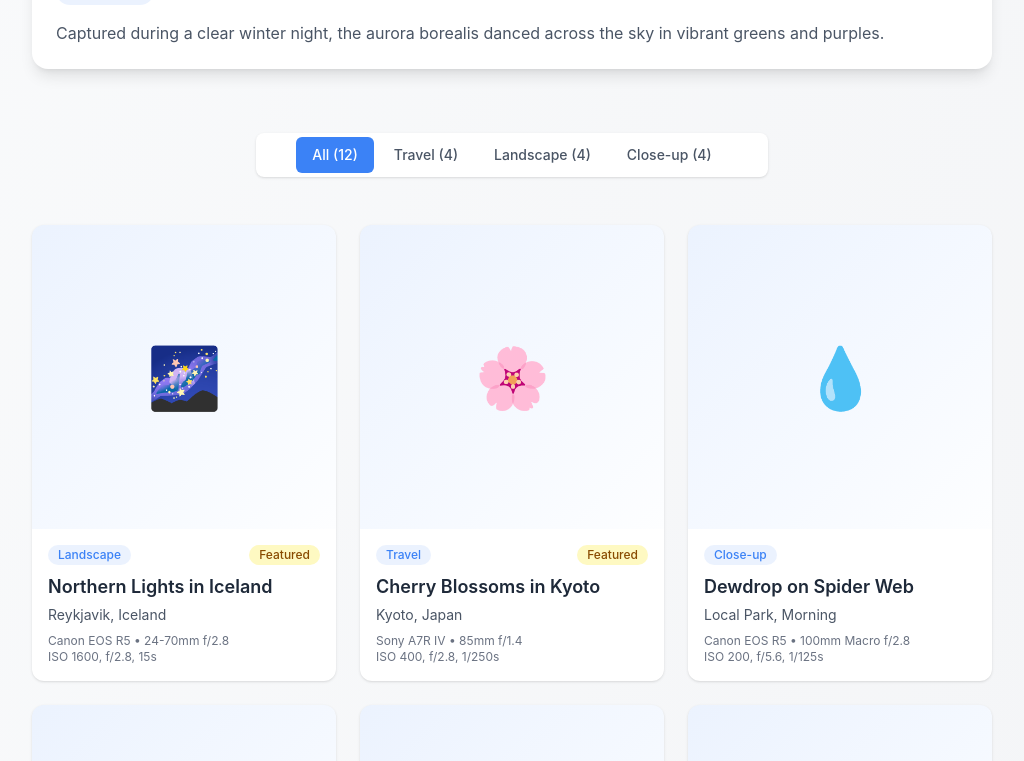
it: Photography Page › Modal UX Improvements › navigates to previous photo with left arrow key
The width and height of the screenshot is (1024, 761).
(page scrolled)
Click the text "🌸": (512, 377) [474,347,550,407]
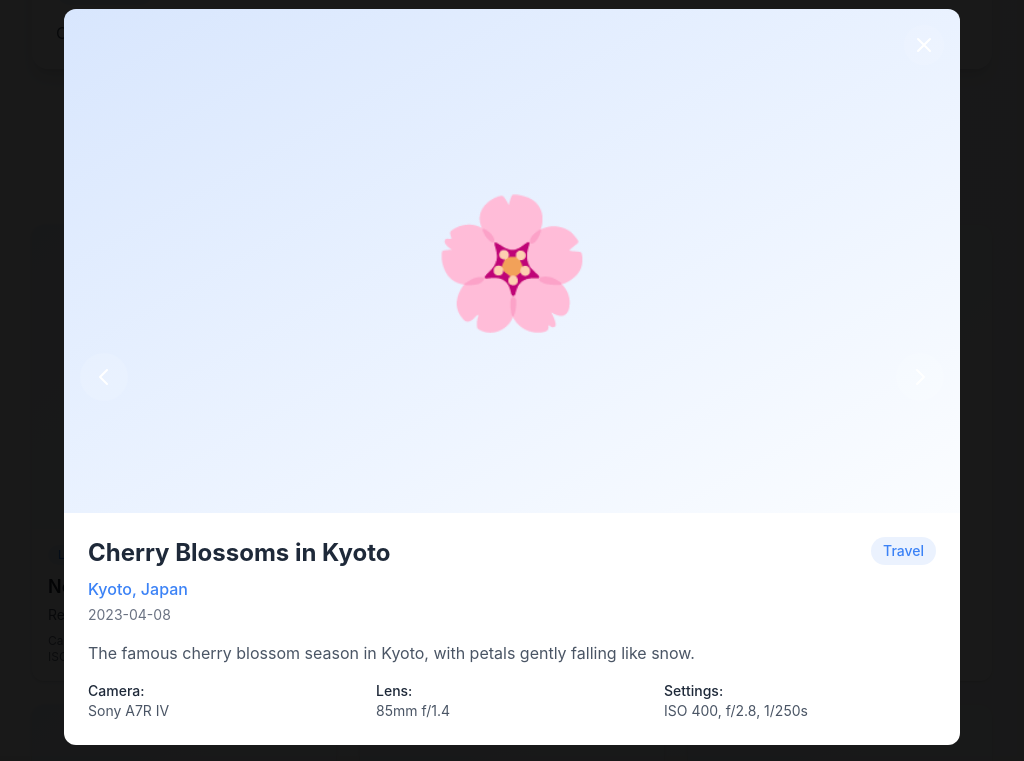
# Press left arrow key
Press Arrowleft
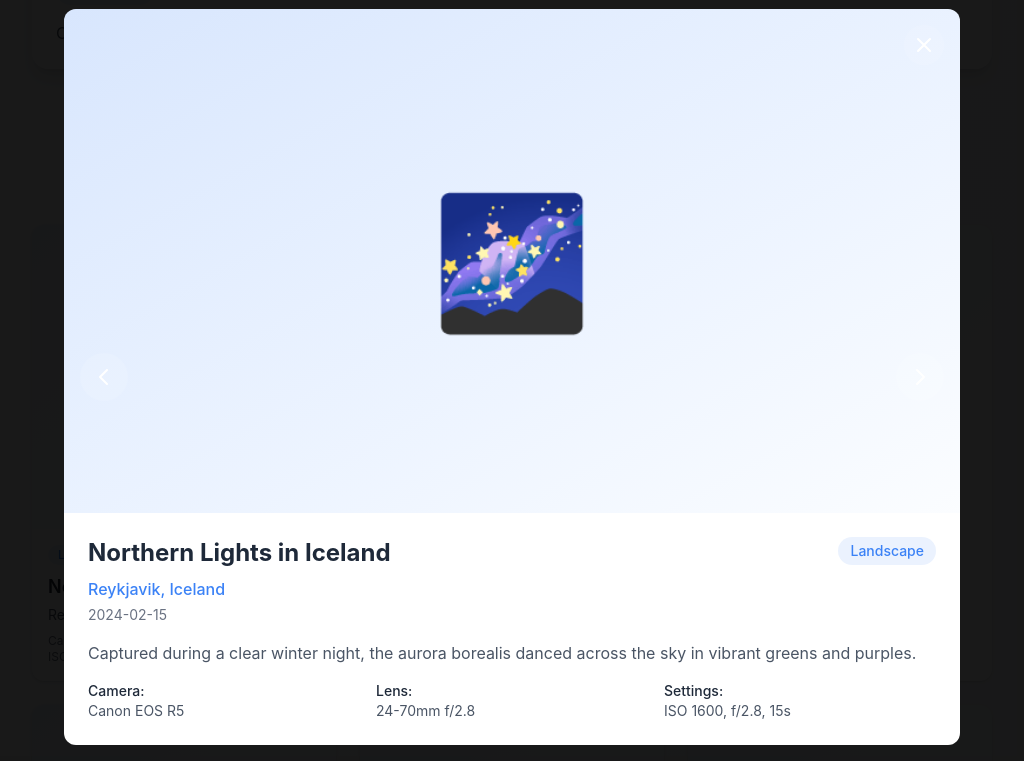
Check: the element named "close modal" shows "🌌", box [432,183,592,338]
